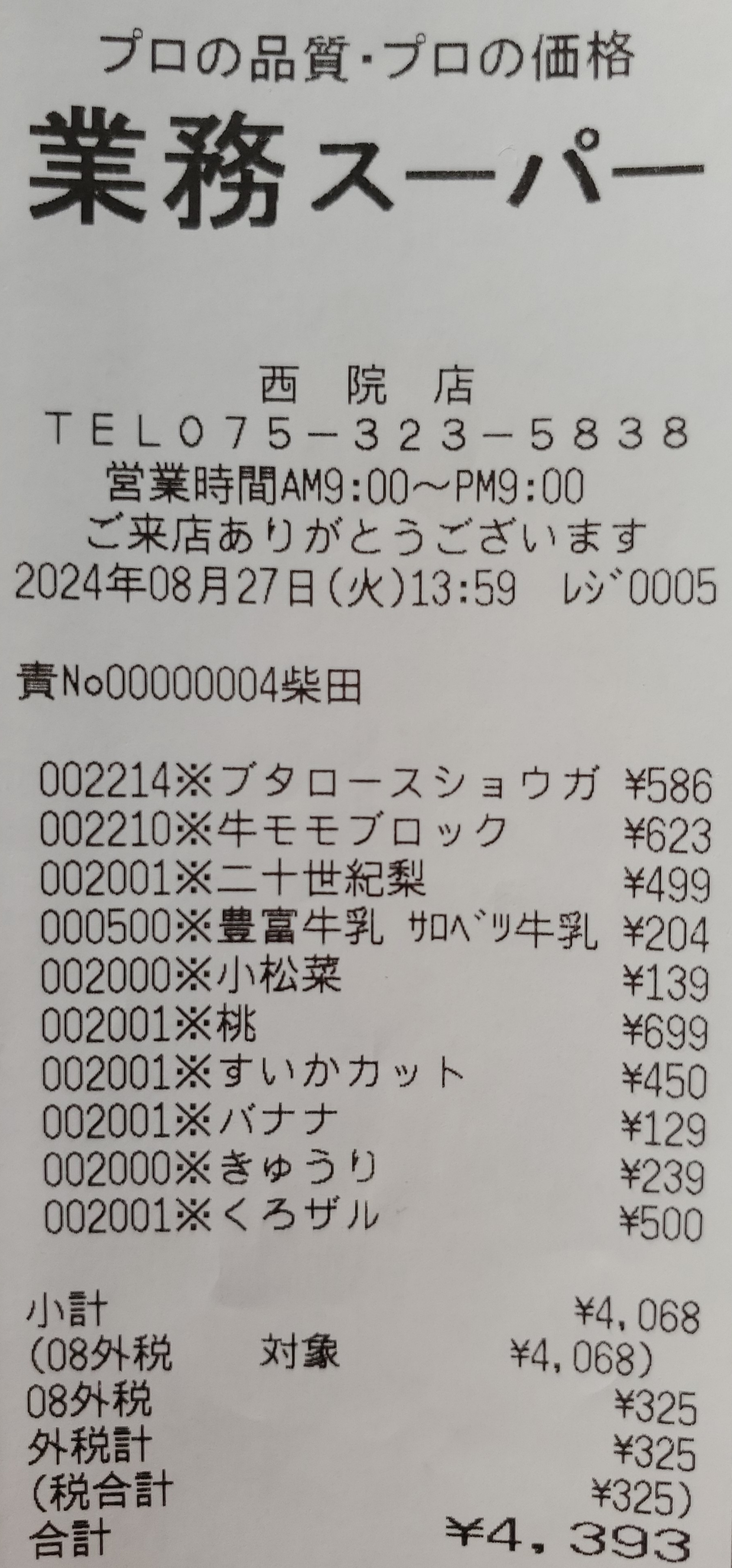Date: (3, 554, 326, 625)
Shopname: (12, 88, 715, 244)
Telnum: (172, 407, 695, 455)
Totalpay: (24, 1520, 724, 1568)
